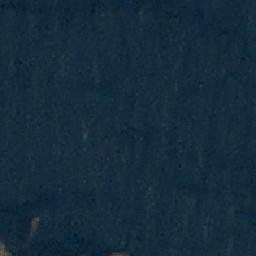debris: (28, 217, 40, 241)
